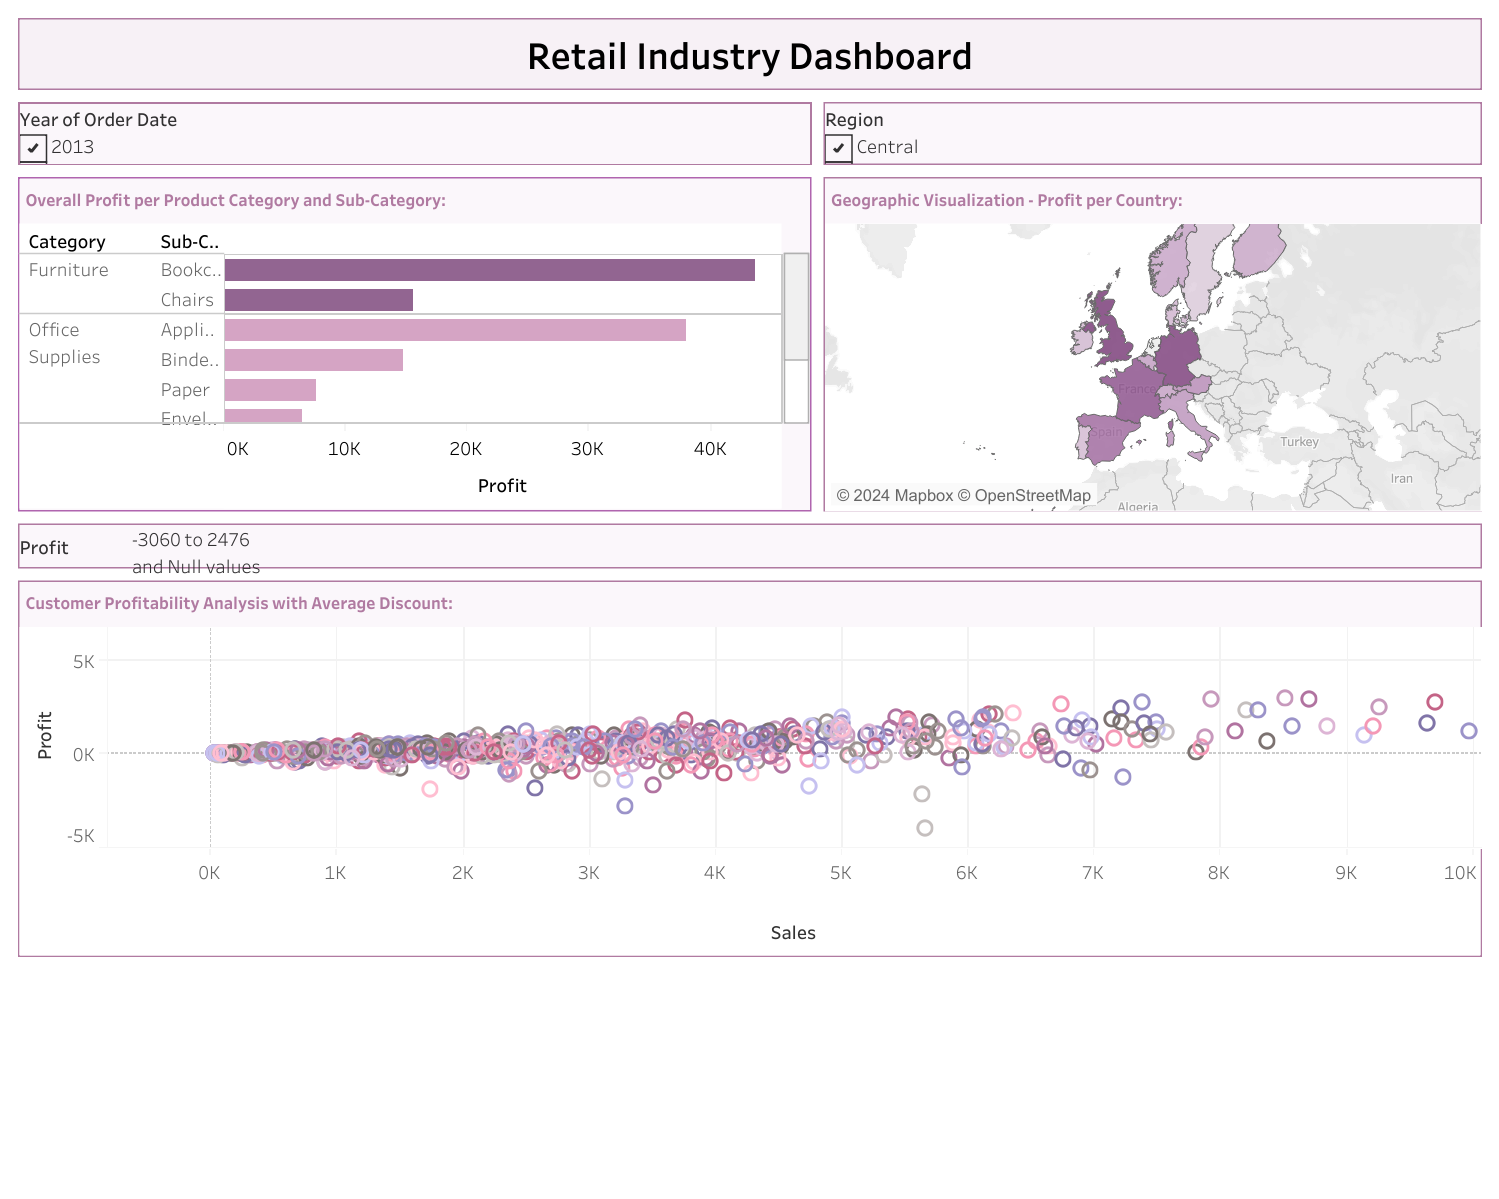

What the dashboard file says about the page in this screenshot:
{"tool":"tableau","page":{"name":"Dashboard 1","canvas":[1000,800],"ordinal":0},"visuals":[{"type":"text","box":[8,8,984,56]},{"type":"filter","title":"Overall Profit per Product Category and Sub-Category.","param":"[federated.1gaawki1hoa6yf14cwys11jskjcl].[yr:Order Date:ok]","box":[8,64,537,50]},{"type":"filter","title":"Geographic Visualization - Profit per Country","param":"[federated.1gaawki1hoa6yf14cwys11jskjcl].[none:Region:nk]","box":[545,64,447,50]},{"type":"worksheet","title":"Overall Profit per Product Category and Sub-Category.","mark":"Automatic","rows":["Category","Sub-Category"],"cols":["Profit"],"box":[8,114,537,231]},{"type":"worksheet","title":"Geographic Visualization - Profit per Country","mark":"Automatic","box":[545,114,447,231]},{"type":"filter","title":"Customer Profitability Analysis with Average Discount","param":"[federated.1gaawki1hoa6yf14cwys11jskjcl].[none:Profit:qk]","box":[8,345,984,38]},{"type":"worksheet","title":"Customer Profitability Analysis with Average Discount","mark":"Automatic","rows":["Profit"],"cols":["Sales"],"box":[8,383,984,259]}]}

Visuals, with their boxes in screenshot pixels (x1, y1, x2, y2), scaled from the page's 1000x800 canvas onto the 1499x1199 screenshot:
text: 12:12:1487:96
"Overall Profit per Product Category and Sub-Category." filter: 12:96:817:171
"Geographic Visualization - Profit per Country" filter: 817:96:1487:171
"Overall Profit per Product Category and Sub-Category." worksheet: 12:171:817:517
"Geographic Visualization - Profit per Country" worksheet: 817:171:1487:517
"Customer Profitability Analysis with Average Discount" filter: 12:517:1487:574
"Customer Profitability Analysis with Average Discount" worksheet: 12:574:1487:962
